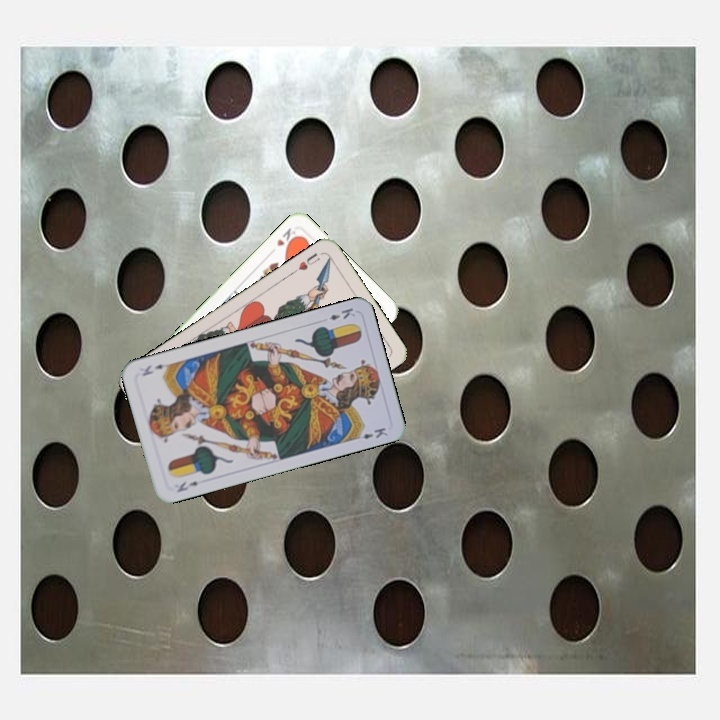EK: (326, 304, 358, 323), (173, 477, 201, 495)
HK: (272, 224, 300, 251)
HU: (289, 248, 323, 276)
